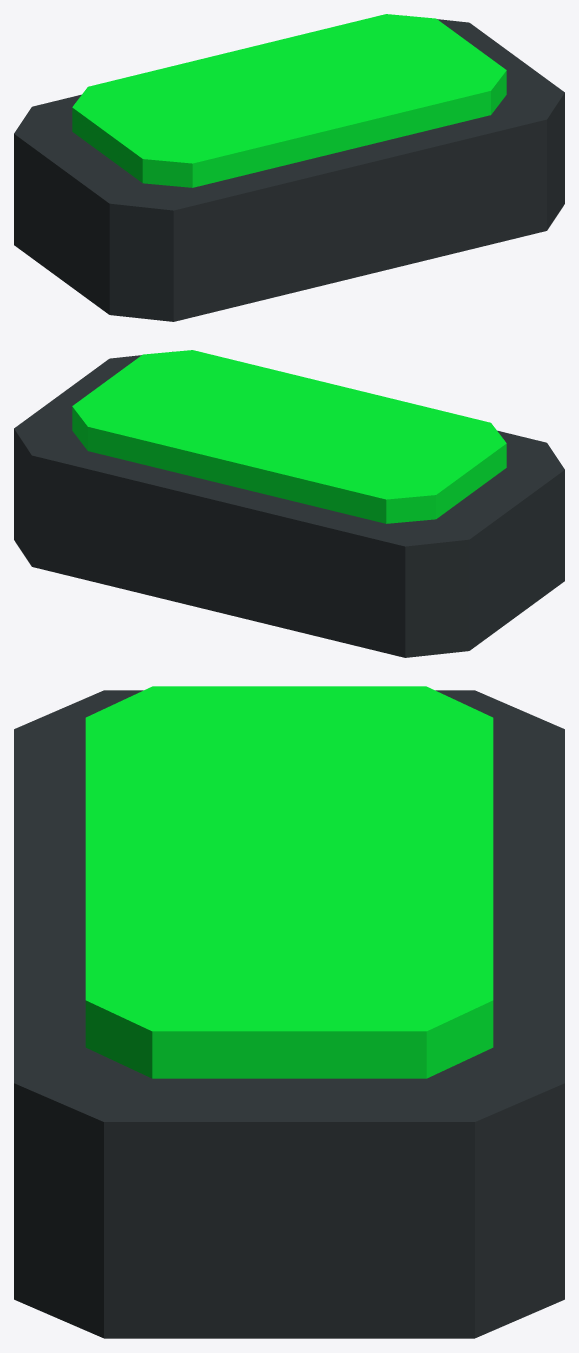
The model's file is Exit Sign 01.FBX.
3 views of the same model, one above another, from view 1: azimuth 30°, elevation 25°; view 2: azimuth 150°, elevation 25°; view 3: azimuth 270°, elevation 25° (orthographic). The views are drawn at different scales.
Parts seen in each view (by area): view 1: Exit Sign 01; view 2: Exit Sign 01; view 3: Exit Sign 01.
Part boxes in pixels (left/top/right/bottom): Exit Sign 01: left=14, top=14, right=564, bottom=321; Exit Sign 01: left=14, top=350, right=564, bottom=657; Exit Sign 01: left=14, top=686, right=564, bottom=1338.
Size of the model in its own units: 47.32 by 13.47 by 25.52.
1 material, 1 textured.
